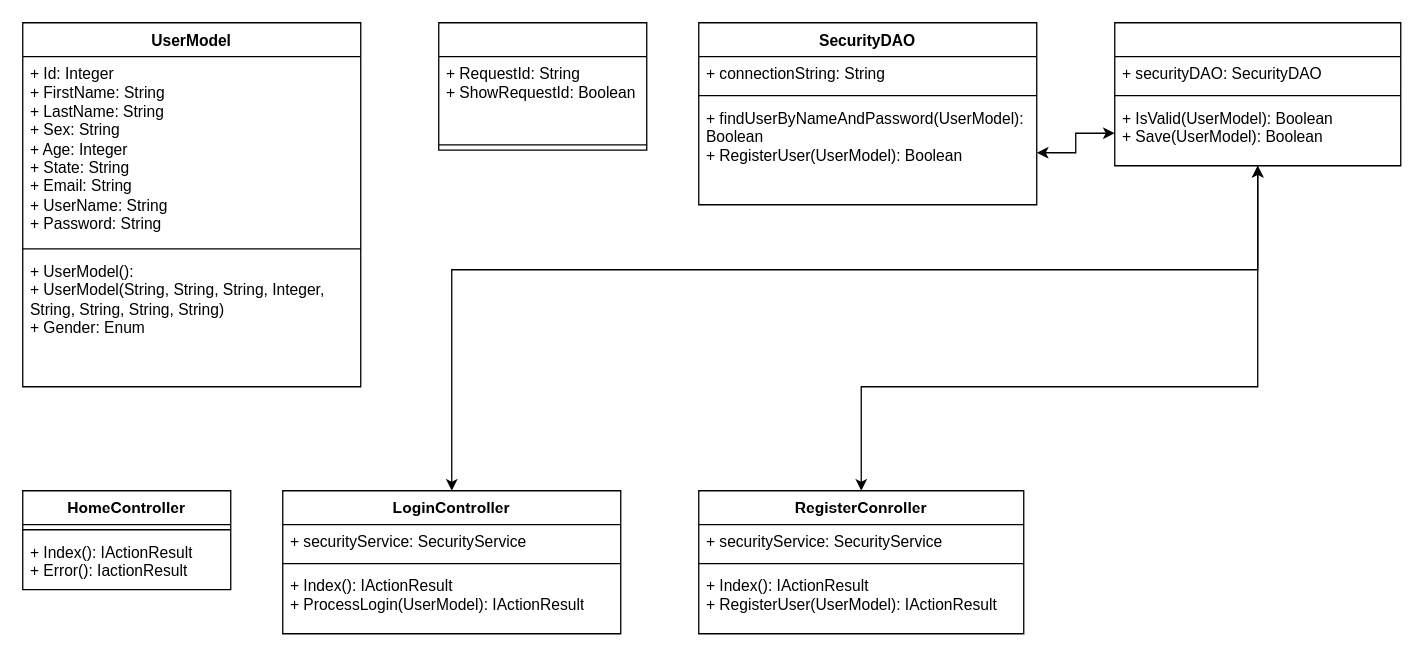
Image size: 1424x660. Some labels were removed from this diagram. Here are the shapes that lost their labels. From the top down, the box of each, then its label:
(437, 21, 647, 150): ErroViewModel
(1113, 21, 1401, 166): SecurityService
